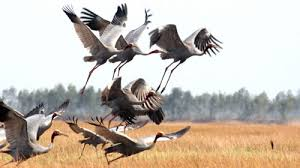seu_dau_do: (61, 7, 141, 87), (146, 25, 224, 94), (90, 117, 191, 165), (1, 103, 69, 167)
